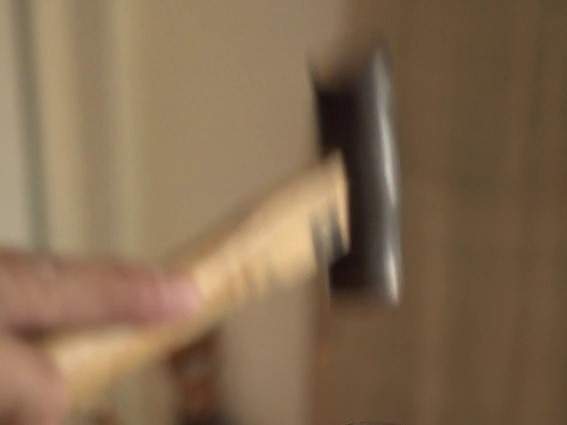hammer: (11, 35, 408, 389)
